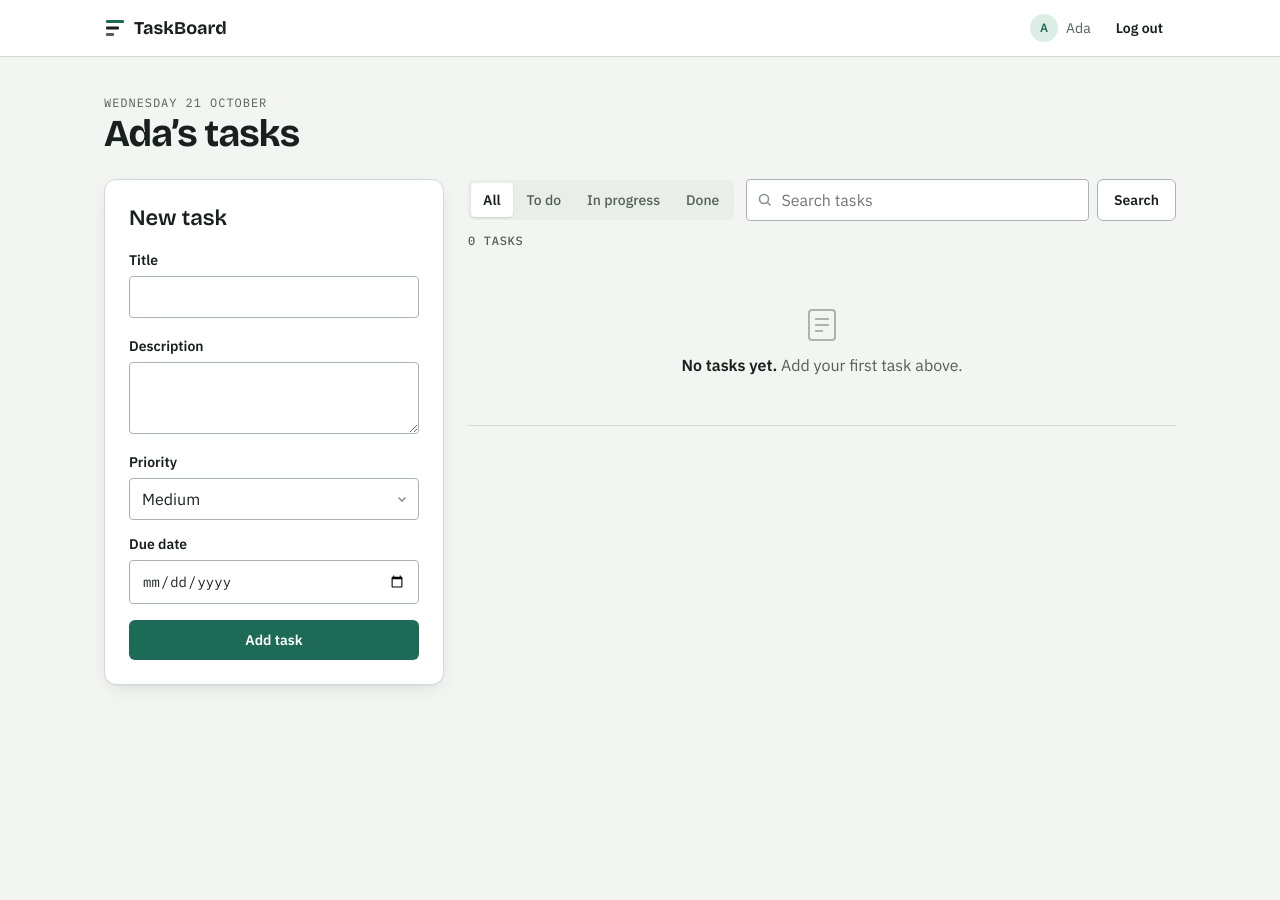
it: App › logs out and redirects to /login when the API returns 401 mid-session
Check: the heading "Ada’s tasks" is shown, box [104,111,299,156]
Check: the element with test id "empty-state" is shown, box [468,257,1176,426]
Click the button "Search".
click(1136, 200)  # box [1097,179,1176,221]
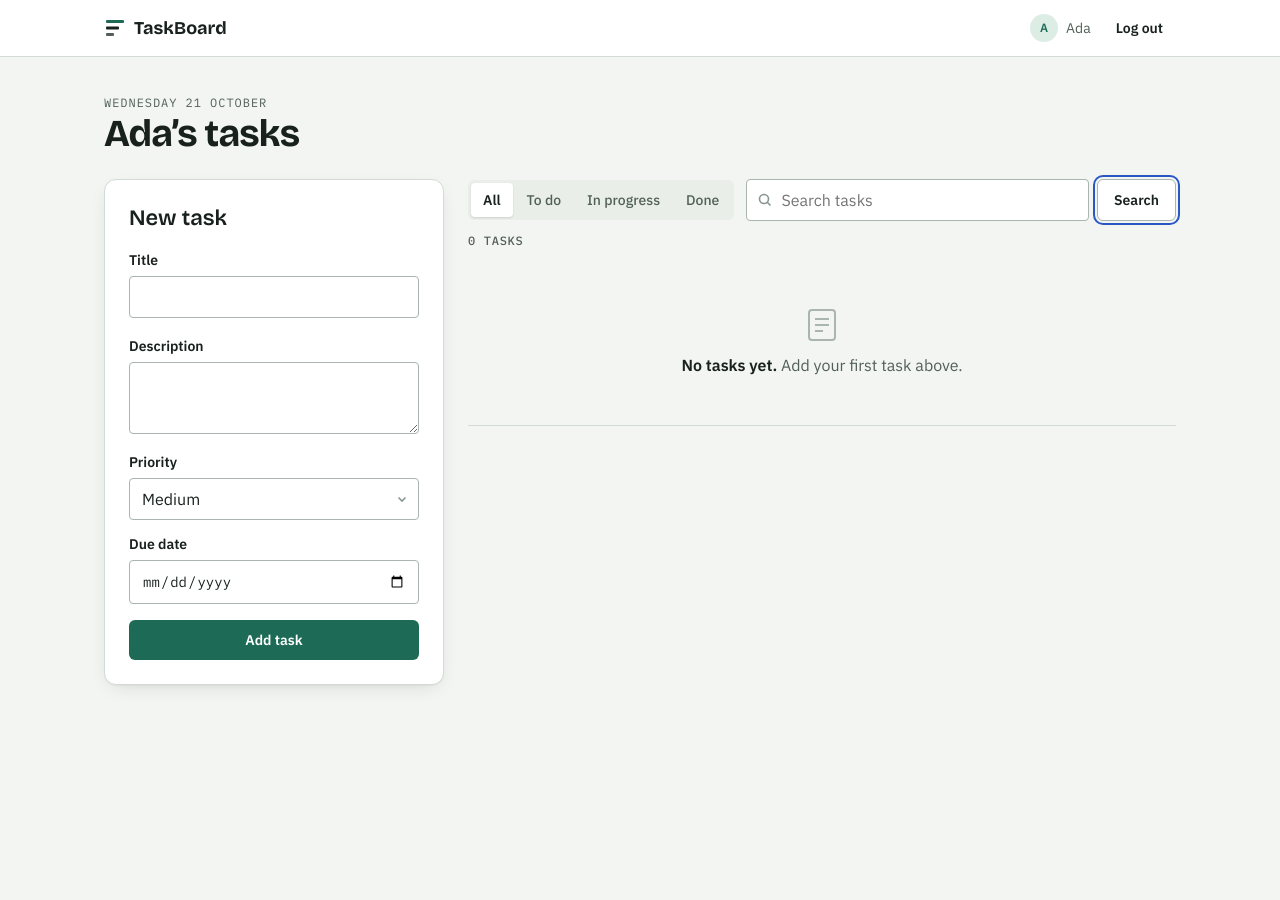
Type "x" into the search field labelled "Search tasks".
click(918, 200); type("x")  # box [746,179,1089,221]
Then press Enter
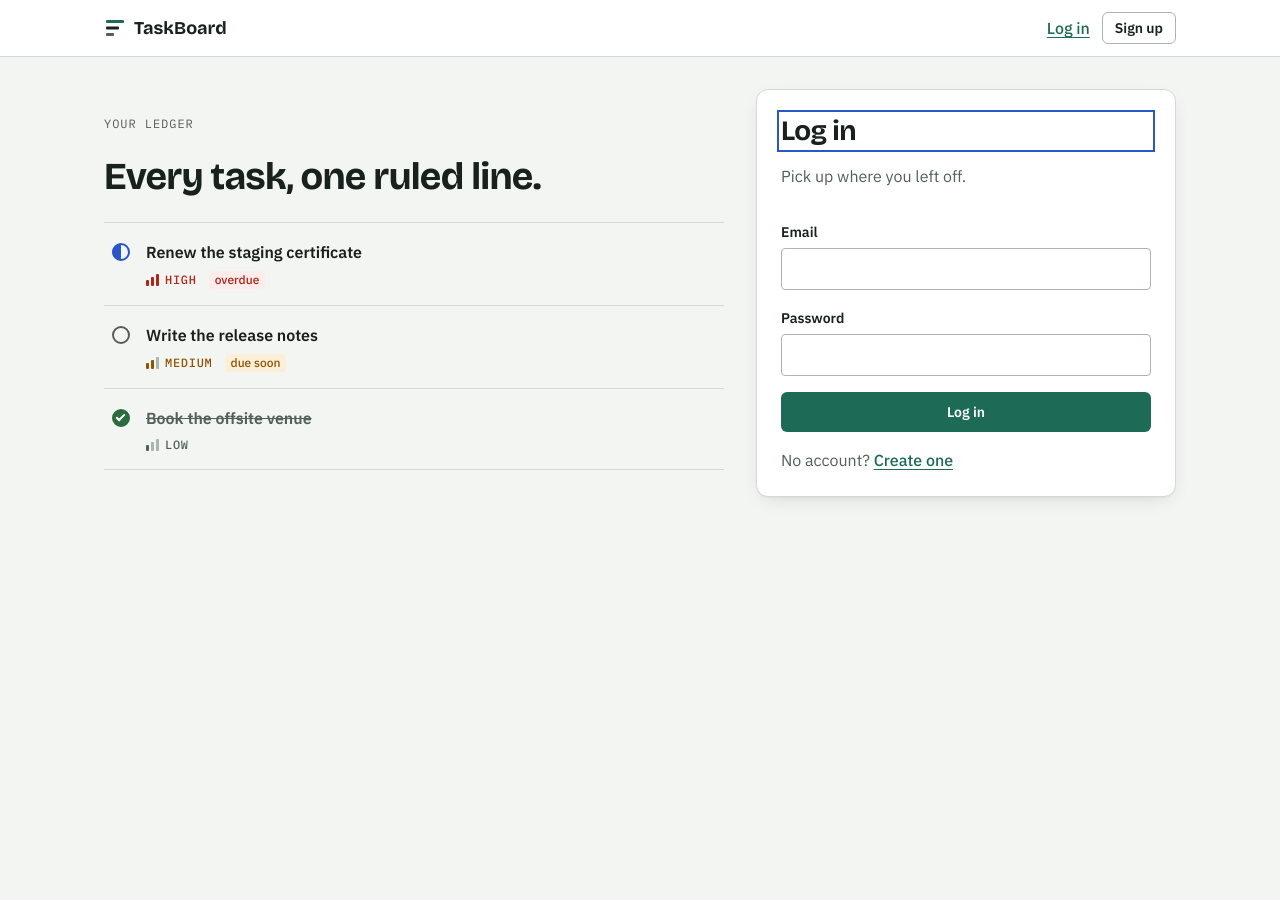
Check: the link "Sign up" is shown, box [1102,12,1176,44]
